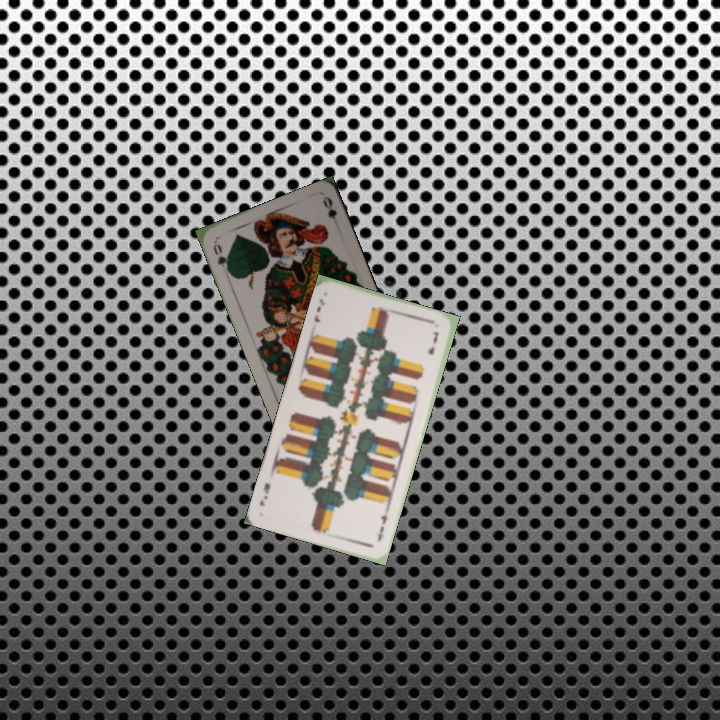E7: (372, 507, 391, 545), (310, 295, 328, 325)
GO: (209, 238, 233, 276)
